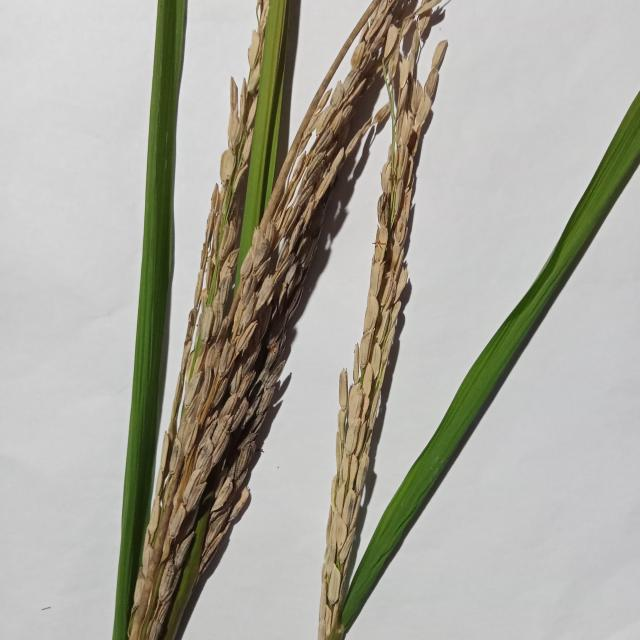Neck_Blast: (127, 0, 403, 638), (316, 38, 454, 638)
